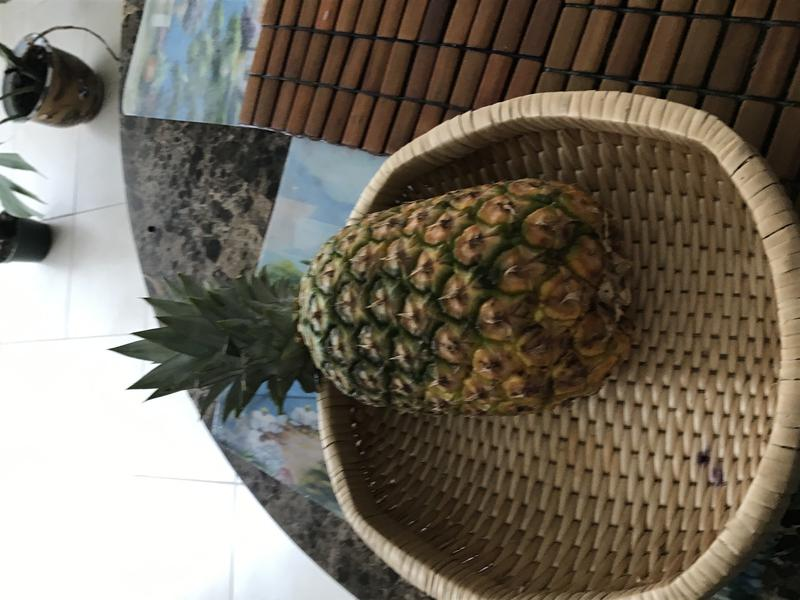pineapple: (62, 173, 634, 427)
